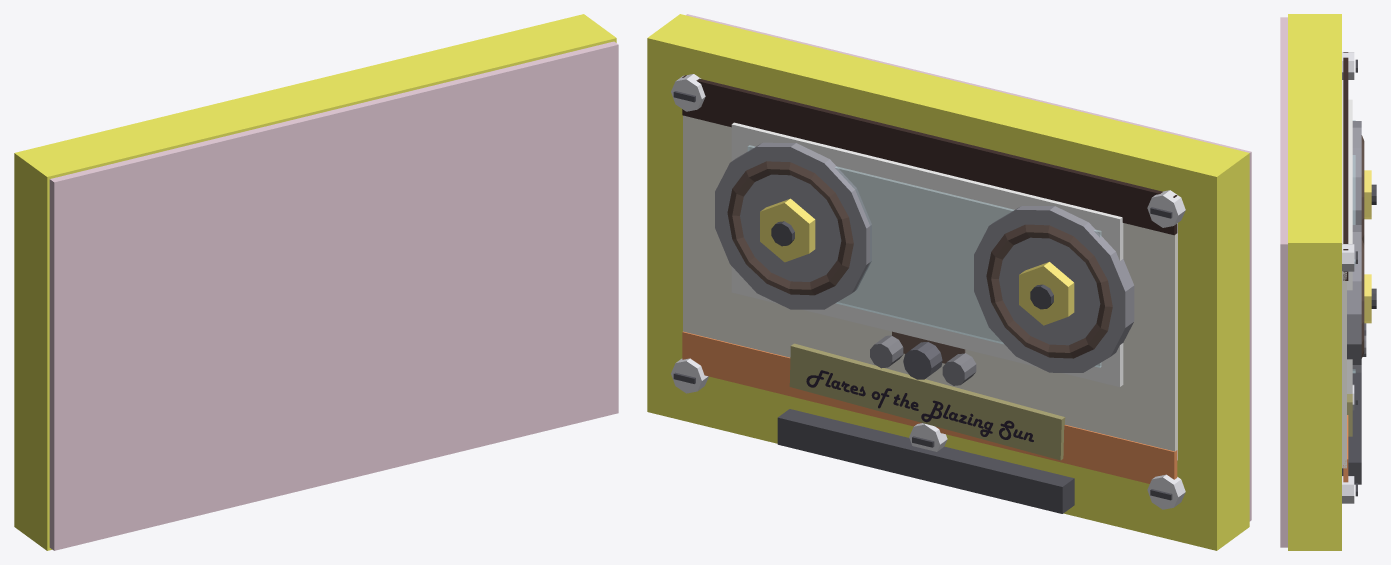
File: cassettePhainonSong.glb
3 views of the same model, side by side, from view 1: azimuth 30°, elevation 25°; view 2: azimuth 150°, elevation 25°; view 3: azimuth 270°, elevation 25° (orthographic). The views are drawn at different scales.
Visible parts, largest first — view 1: ShellBack, Shell; view 2: Shell, Label, WindowFrame, WindowGlass, StripeTop, Reel_L, Reel_R, TapeOpening, Plane, StripeBot, Tape_L, Tape_R (+11 smaller); view 3: Shell, ShellBack, Reel_R, Label, TapeOpening, StripeTop, WindowFrame, Reel_L, Tape_R, Tape_L, Hub_L, Hub_R (+6 smaller).
Part boxes in pixels (<box>): ShellBack: <box>49,41,618,550</box>; Shell: <box>14,14,616,550</box>; Shell: <box>647,14,1249,550</box>; Label: <box>683,115,1177,460</box>; WindowFrame: <box>731,122,1123,386</box>; WindowGlass: <box>747,145,1101,367</box>; StripeTop: <box>682,75,1177,235</box>; Reel_L: <box>974,206,1134,372</box>; Reel_R: <box>715,142,871,309</box>; TapeOpening: <box>777,409,1074,513</box>; Plane: <box>789,343,1065,460</box>; StripeBot: <box>682,331,1177,483</box>; Tape_L: <box>986,224,1112,358</box>; Tape_R: <box>727,161,853,295</box>; Shell: <box>1288,14,1341,550</box>; ShellBack: <box>1280,17,1287,547</box>; Reel_R: <box>1347,225,1361,372</box>; Label: <box>1342,80,1346,468</box>; TapeOpening: <box>1342,372,1361,484</box>; StripeTop: <box>1343,52,1348,280</box>; WindowFrame: <box>1347,99,1352,393</box>; Reel_L: <box>1352,121,1361,224</box>; Tape_R: <box>1361,239,1364,358</box>; Tape_L: <box>1361,135,1364,244</box>; Hub_L: <box>1364,170,1371,219</box>; Hub_R: <box>1364,274,1371,323</box>.
Bounding box in the file's own units: 2.2 × 1.38 × 0.39.
